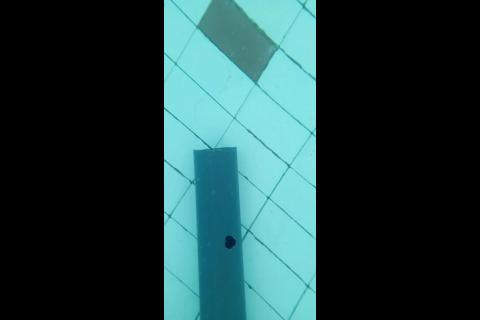kebocoran: (223, 234, 237, 251)
